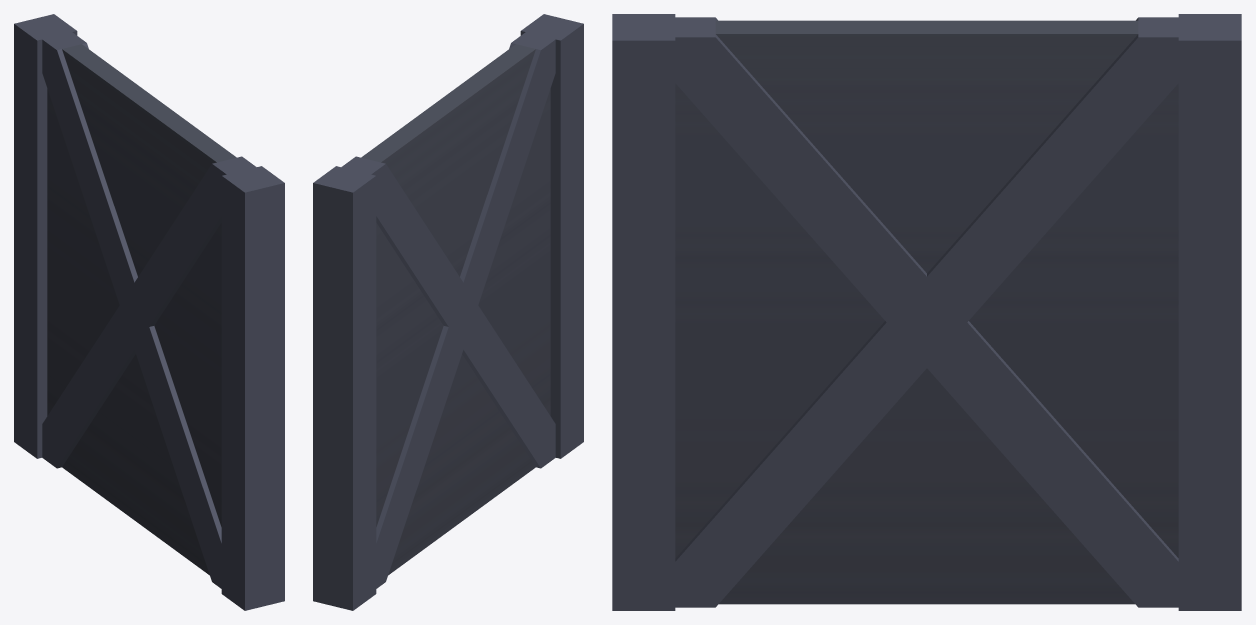
The model's file is wall-detail-cross.glb.
3 renders of one model, left to right at view 1: azimuth 30°, elevation 25°; view 2: azimuth 150°, elevation 25°; view 3: azimuth 270°, elevation 25°, orthographic. The views are drawn at different scales.
Parts seen in each view (by area): view 1: wall-detail-cross; view 2: wall-detail-cross; view 3: wall-detail-cross.
Boxes of the visible parts, x1,y1,x2,y2 form: wall-detail-cross: (14,14,284,610); wall-detail-cross: (313,14,583,610); wall-detail-cross: (612,14,1241,610).
Bounding box in the file's own units: 0.1 × 1 × 1.
1 material, 1 textured.
